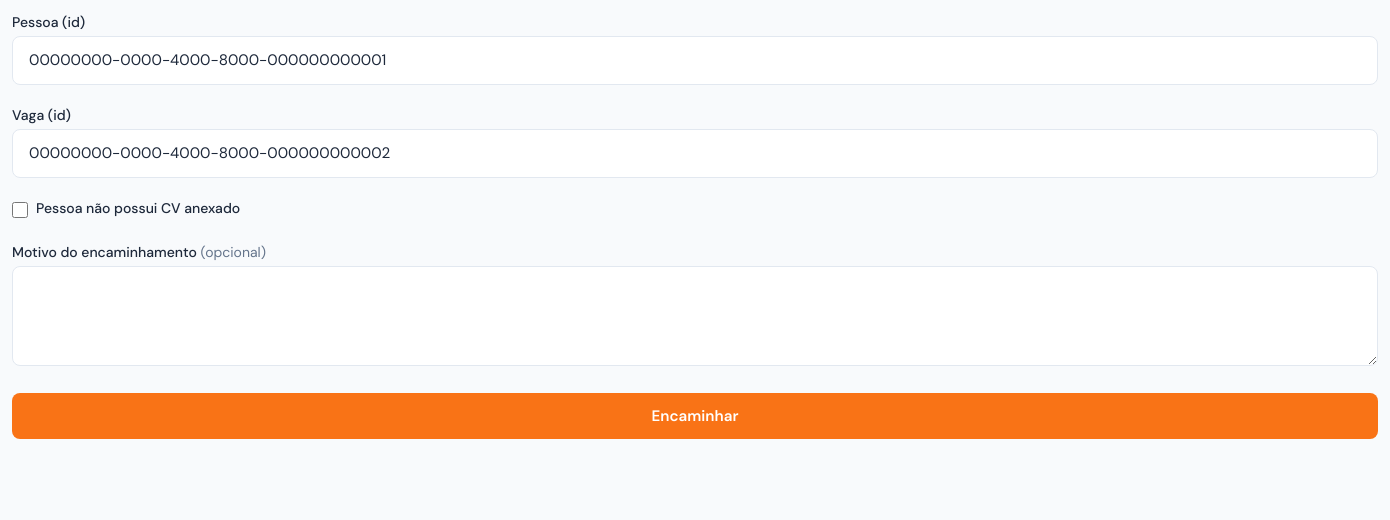
Test: USP-037 T8 — ReferralForm › erro do servidor é exibido e nenhuma confirmação de sucesso aparece
Click the button "Encaminhar" at (695, 416), box [12,393,1378,439]
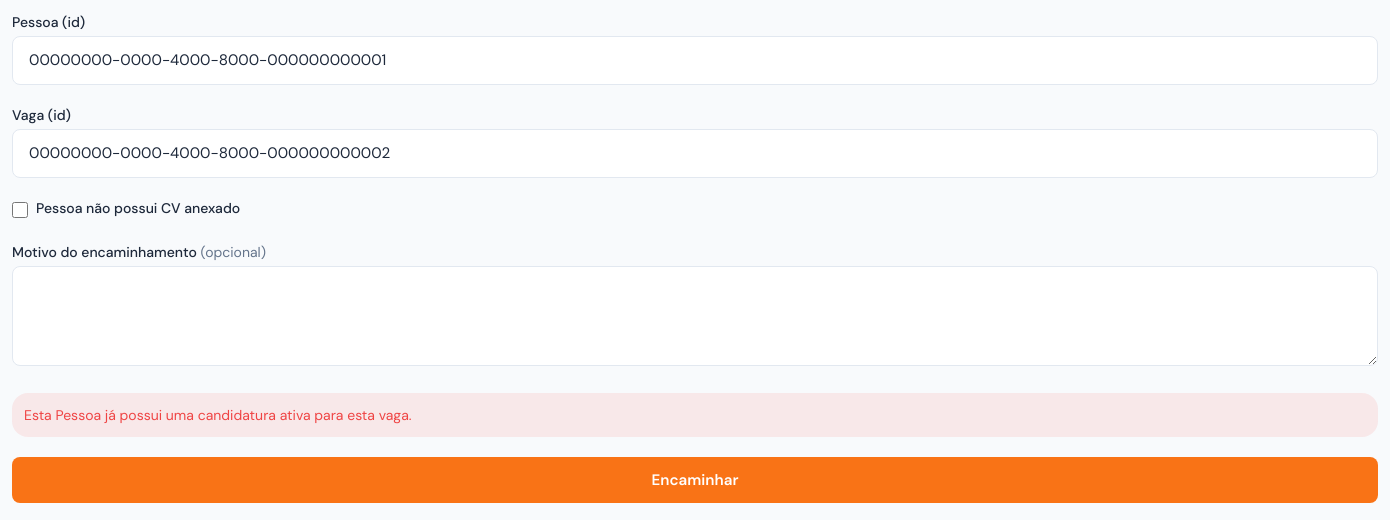
Result: the message shows "já possui uma candidatura ativa" at [24,406,412,424]
